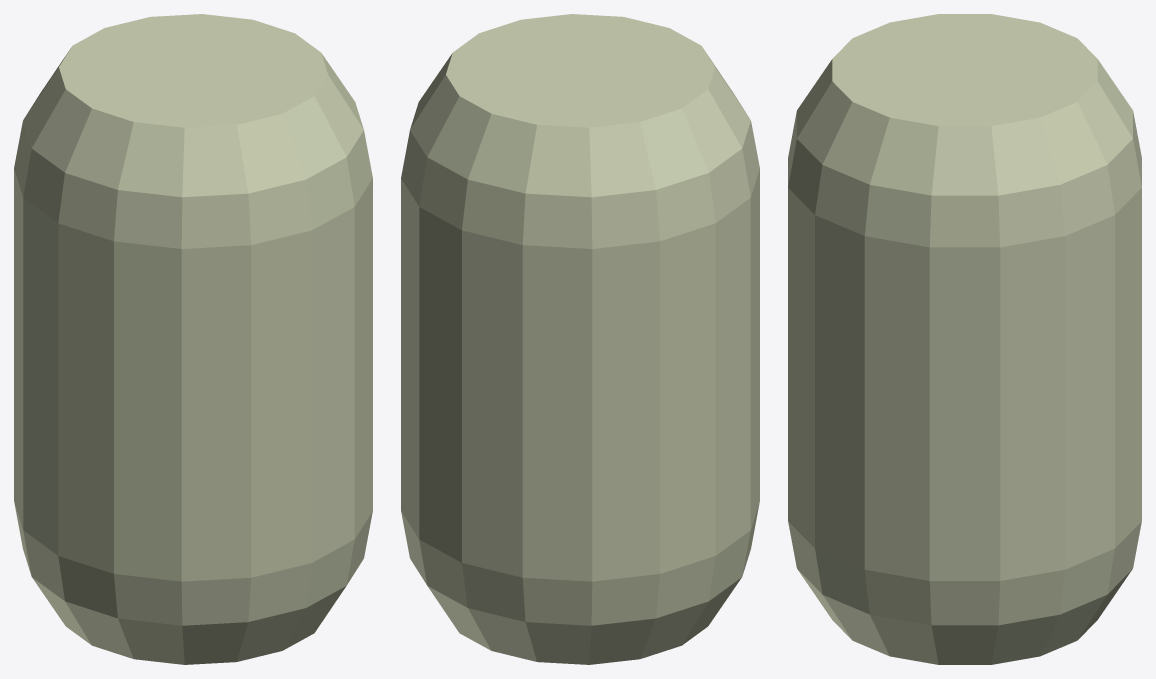
Rendered from Mira_Crew_1_Collider.obj.
3 views of the same model, side by side, from view 1: azimuth 30°, elevation 25°; view 2: azimuth 150°, elevation 25°; view 3: azimuth 270°, elevation 25° (orthographic).
Visible parts, largest first — view 1: Mira_Crew_1_Collider; view 2: Mira_Crew_1_Collider; view 3: Mira_Crew_1_Collider.
Boxes of the visible parts, bbox=[...] form: Mira_Crew_1_Collider: bbox=[14, 14, 372, 664]; Mira_Crew_1_Collider: bbox=[401, 14, 759, 664]; Mira_Crew_1_Collider: bbox=[788, 14, 1141, 664].
Size of the model in its own units: 1.25 by 2.1 by 1.25.
